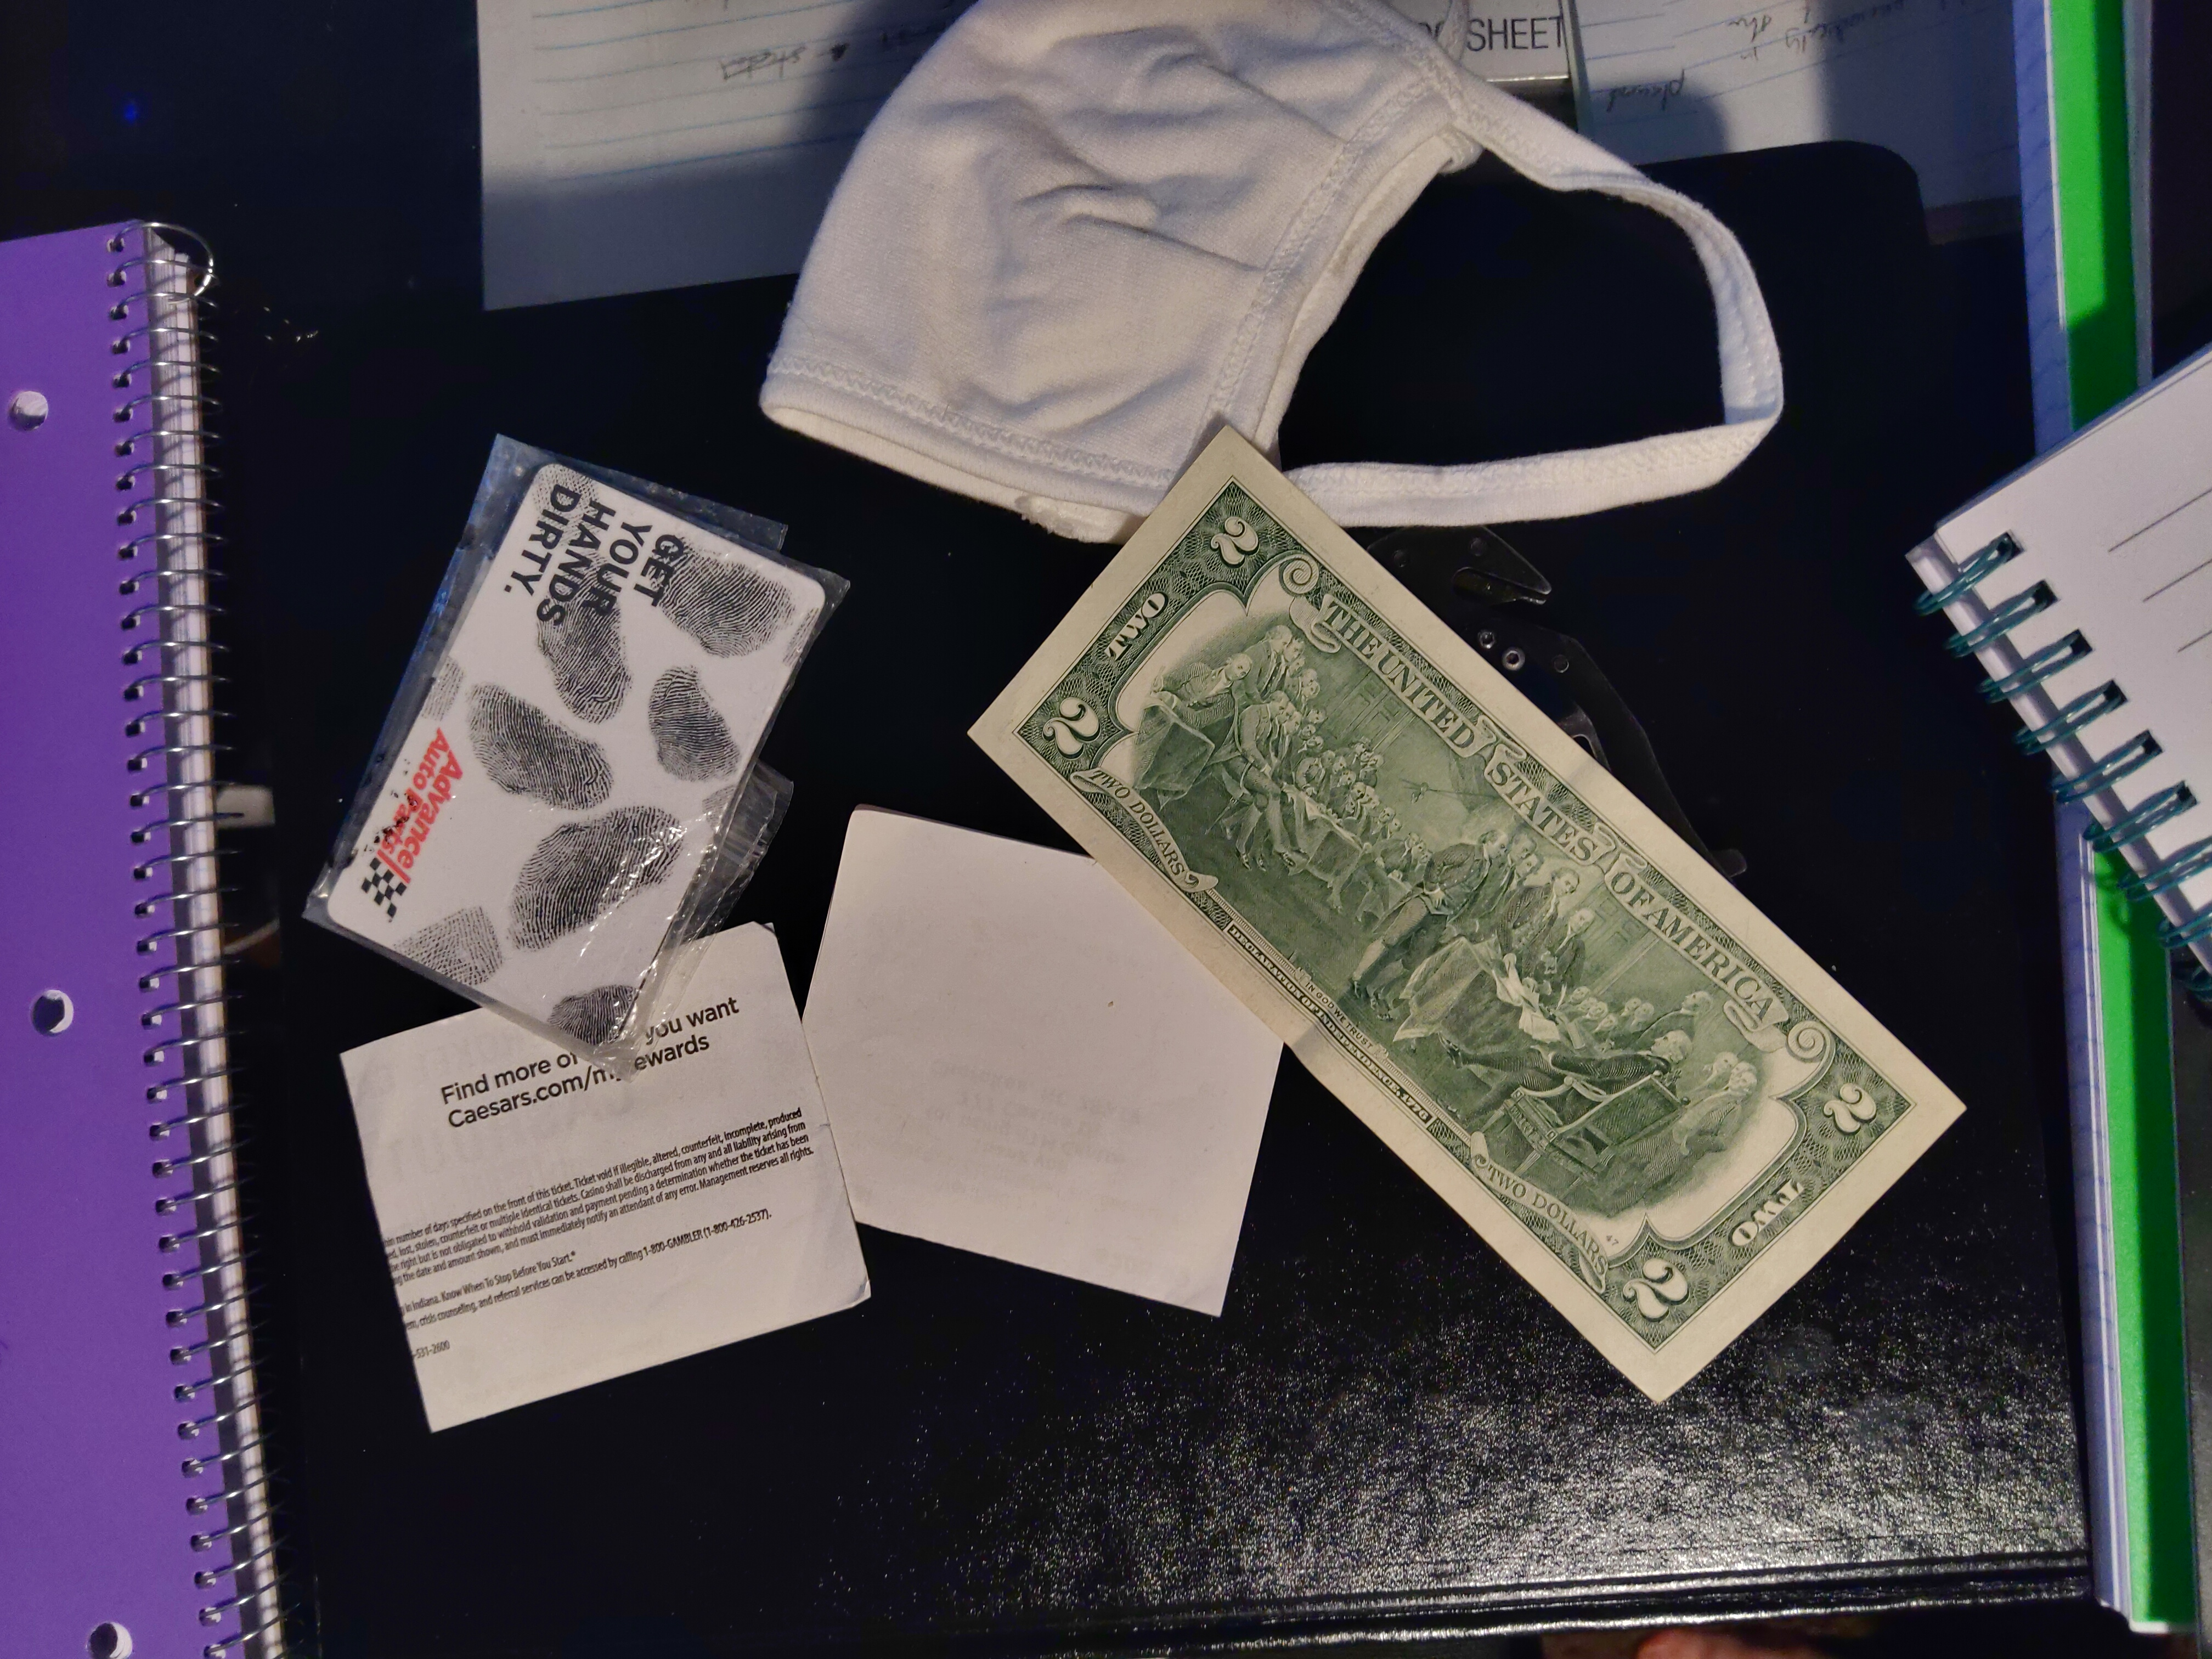TwoBill: (967, 425, 1966, 1408)
